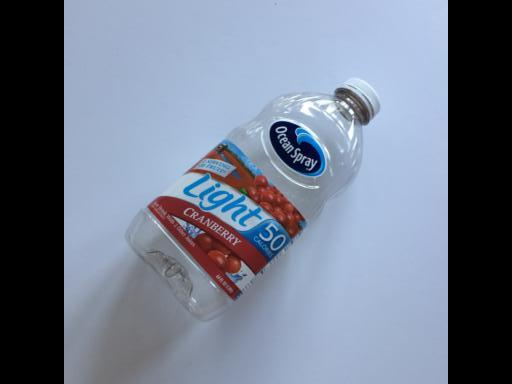plastic: (124, 78, 381, 324)
